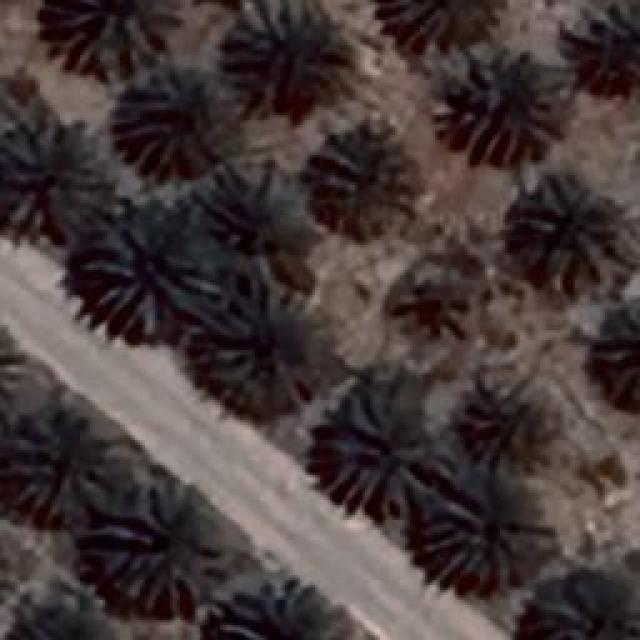PalmTree: (72, 86, 580, 610), (80, 195, 220, 338), (110, 55, 262, 183), (120, 47, 604, 86), (92, 482, 226, 618), (315, 395, 460, 515), (440, 40, 560, 165), (430, 470, 542, 595), (0, 112, 110, 238), (310, 130, 422, 238), (229, 3, 339, 108), (522, 170, 620, 282), (216, 177, 311, 292), (8, 415, 110, 520), (200, 280, 302, 382), (42, 0, 179, 72), (207, 572, 335, 640), (394, 260, 488, 342), (468, 378, 552, 466), (372, 0, 490, 50), (8, 600, 117, 640), (598, 300, 638, 402), (0, 306, 22, 421)
